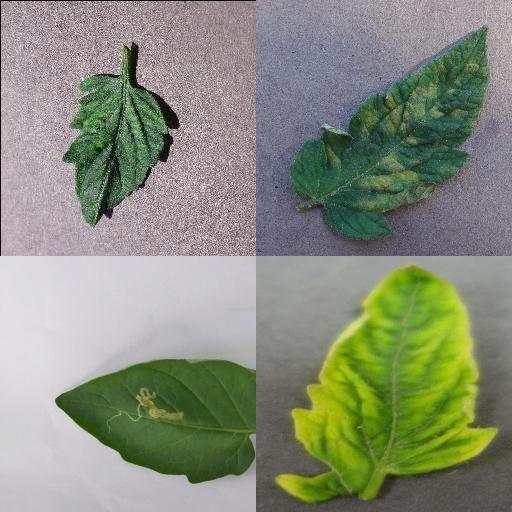Leaf Miner: (55, 358, 256, 486)
Leaf Mold: (291, 26, 489, 238)
Mosaic Virus: (61, 72, 167, 226)
Yellow Leaf Curl Virus: (277, 262, 497, 502)
